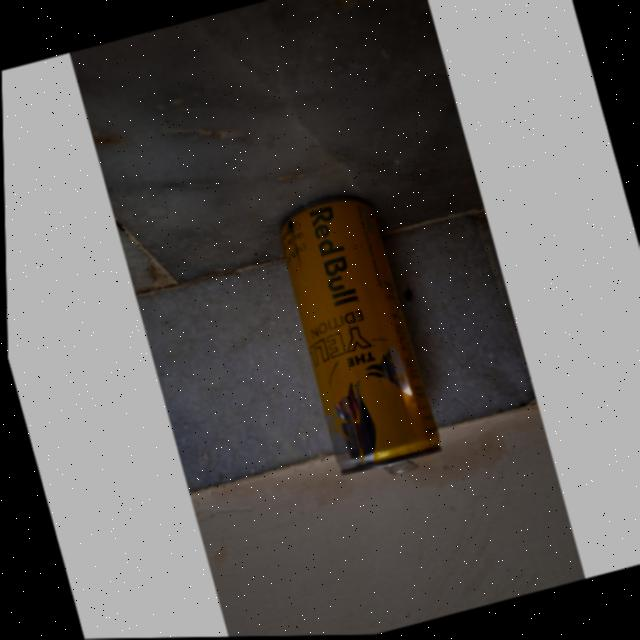Redbull Summer Edition: (257, 174, 460, 512)
